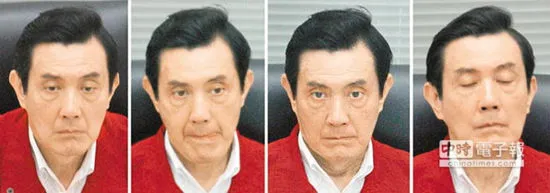fatigue: (430, 11, 534, 150)
normal: (277, 9, 386, 162), (145, 14, 250, 159), (17, 16, 120, 153)
